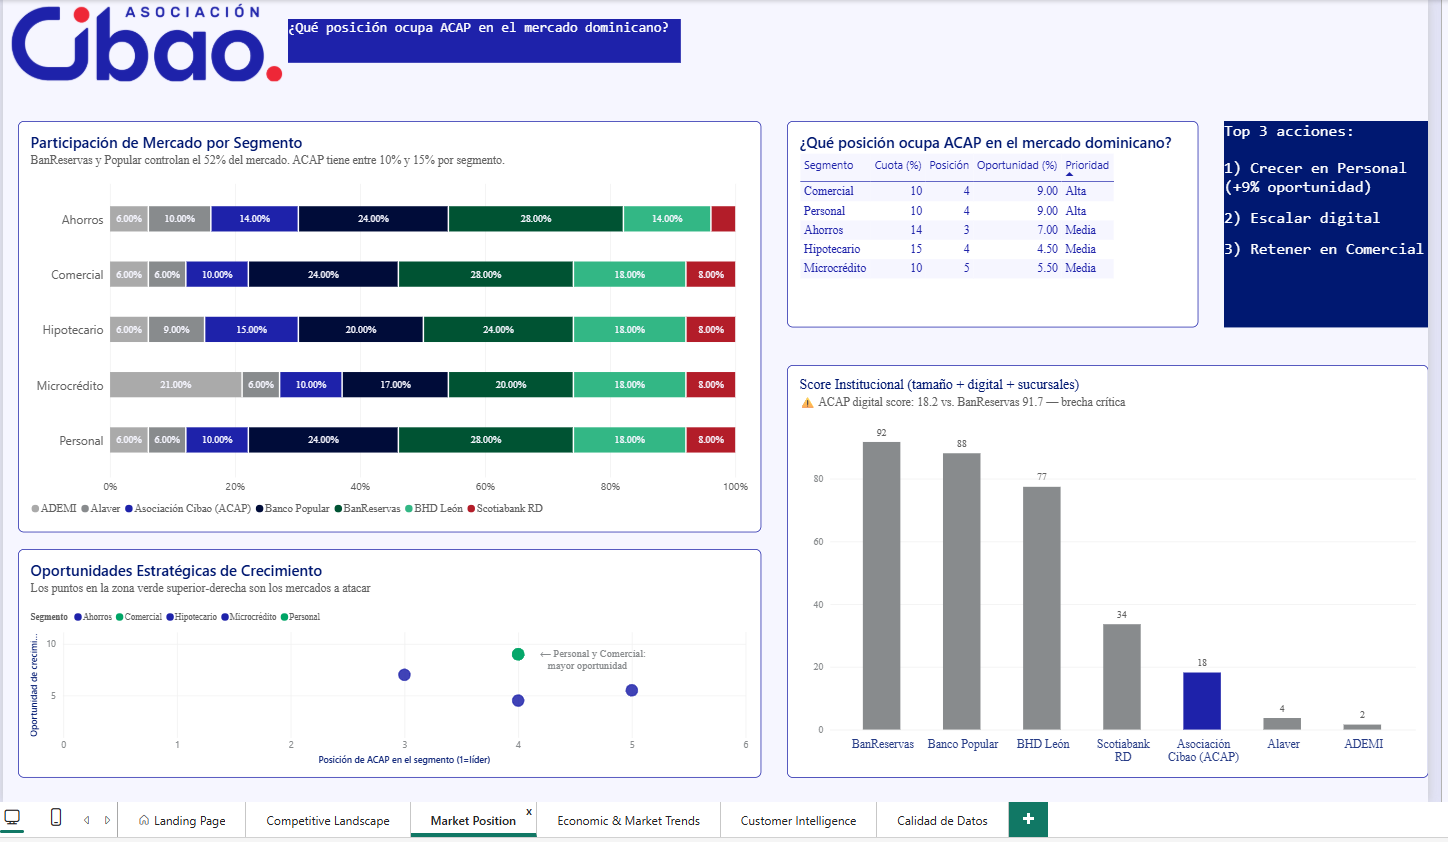

This screenshot's page, from the dashboard's own definition file:
{"tool":"powerbi","page":{"name":"Market Position","canvas":[1920,1080],"ordinal":2},"visuals":[{"type":"hundredPercentStackedBarChart","title":"Participación de Mercado por Segmento","fields":{"Category":["market_share.segmento"],"Series":["market_share.institucion"],"Y":["Avg(market_share.participacion_pct)"]},"box":[20.4,163.1,1000.8,554.1],"z":0},{"type":"scatterChart","title":"Oportunidades Estratégicas de Crecimiento","fields":{"Series":["analysis_market_gaps.segmento"],"X":["analysis_market_gaps.rank_segmento"],"Y":["analysis_market_gaps.oportunidad_crecimiento_pct"]},"box":[20.4,739.5,1000.8,307.6],"z":1000},{"type":"tableEx","title":"¿Qué posición ocupa ACAP en el mercado dominicano?","fields":{"Values":["analysis_market_gaps.segmento","analysis_market_gaps.participacion_pct","analysis_market_gaps.rank_segmento","analysis_market_gaps.oportunidad_crecimiento_pct","analysis_market_gaps.prioridad"]},"box":[1056.4,163.1,554.1,278],"z":2000},{"type":"columnChart","title":"Score Institucional (tamaño + digital + sucursales)","fields":{"Category":["analysis_competitor_matrix.institucion"],"Y":["Avg(analysis_competitor_matrix.score_total)"]},"box":[1056.4,491.1,863.6,556],"z":3000},{"type":"image","box":[0,0,383.6,113.1],"z":4000},{"type":"textbox","box":[384.3,25.5,529.4,59],"z":5000},{"type":"textbox","box":[1643.9,163.1,276.1,278],"z":6000},{"type":"textbox","box":[722.8,871,159.4,44.5],"z":7500}]}

Visuals, with their boxes on the page's 1920x1080 design canvas (x1, y1, x2, y2). These are canvas units, not pixel positions in the 1448x842 screenshot, which may show the page scaled, cropped or inside an application window:
"Participación de Mercado por Segmento" hundredPercentStackedBarChart: 20, 163, 1021, 717
"Oportunidades Estratégicas de Crecimiento" scatterChart: 20, 740, 1021, 1047
"¿Qué posición ocupa ACAP en el mercado dominicano?" tableEx: 1056, 163, 1610, 441
"Score Institucional (tamaño + digital + sucursales)" columnChart: 1056, 491, 1920, 1047
image: 0, 0, 384, 113
textbox: 384, 26, 914, 84
textbox: 1644, 163, 1920, 441
textbox: 723, 871, 882, 916
